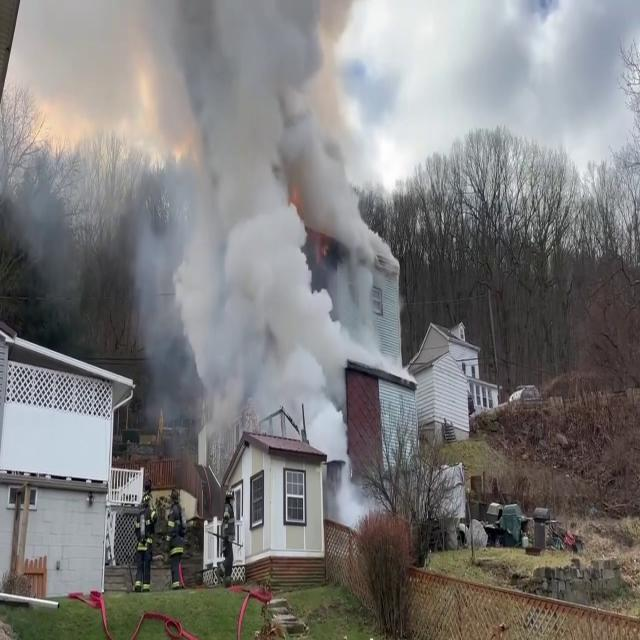Smoke: (117, 0, 378, 461)
